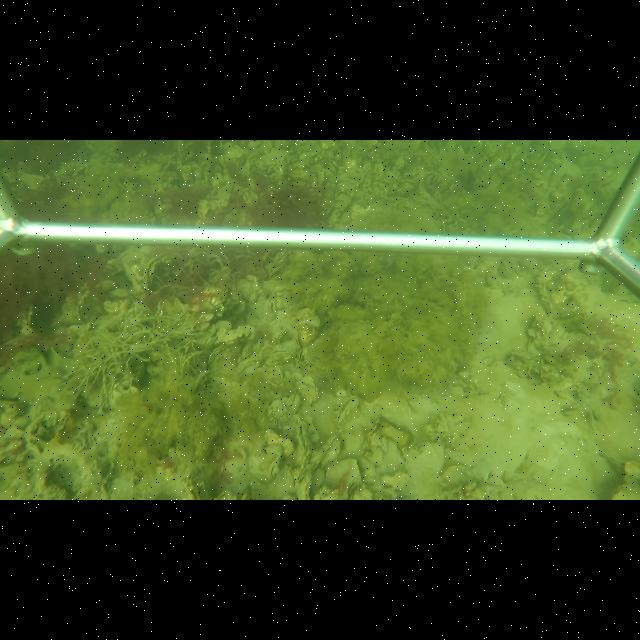Oyster-Closed: (247, 443, 284, 482), (335, 394, 360, 435), (295, 421, 315, 470), (295, 462, 319, 500), (319, 435, 342, 469), (294, 381, 321, 405), (296, 467, 311, 483), (294, 348, 305, 369)
